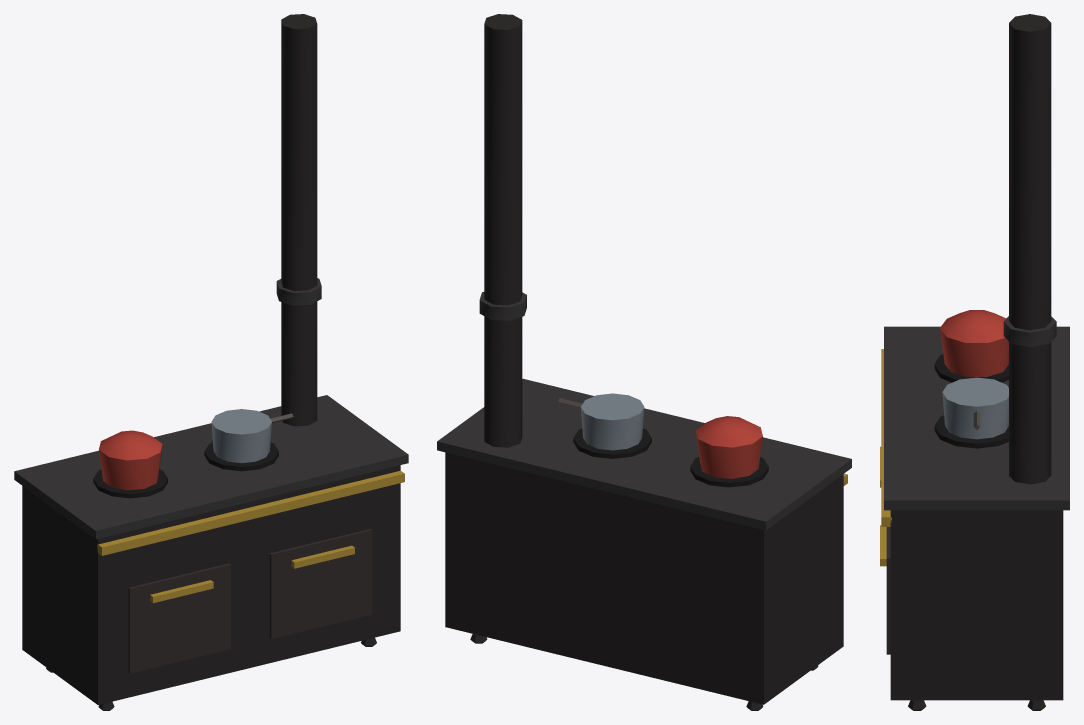
The model's file is range_stove.glb.
3 views of the same model, side by side, from view 1: azimuth 30°, elevation 25°; view 2: azimuth 150°, elevation 25°; view 3: azimuth 270°, elevation 25° (orthographic). The views are drawn at different scales.
Parts seen in each view (by area): view 1: furniture-range_stove; view 2: furniture-range_stove; view 3: furniture-range_stove.
Part boxes in pixels (<box>): furniture-range_stove: <box>14,14,408,710</box>; furniture-range_stove: <box>437,14,851,710</box>; furniture-range_stove: <box>880,14,1069,710</box>.
Size of the model in its own units: 1.55 by 2.8 by 0.7151.
